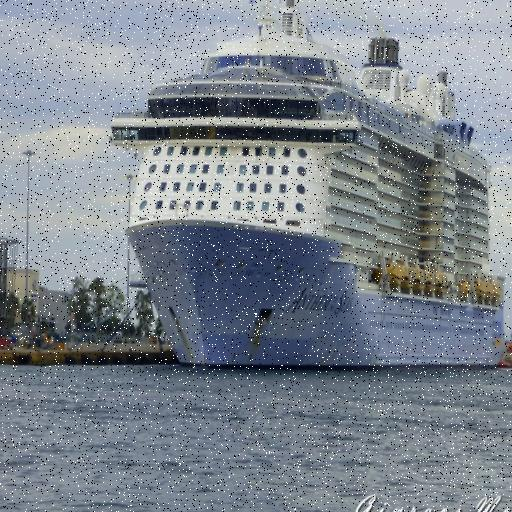cruises: (105, 1, 512, 380)
